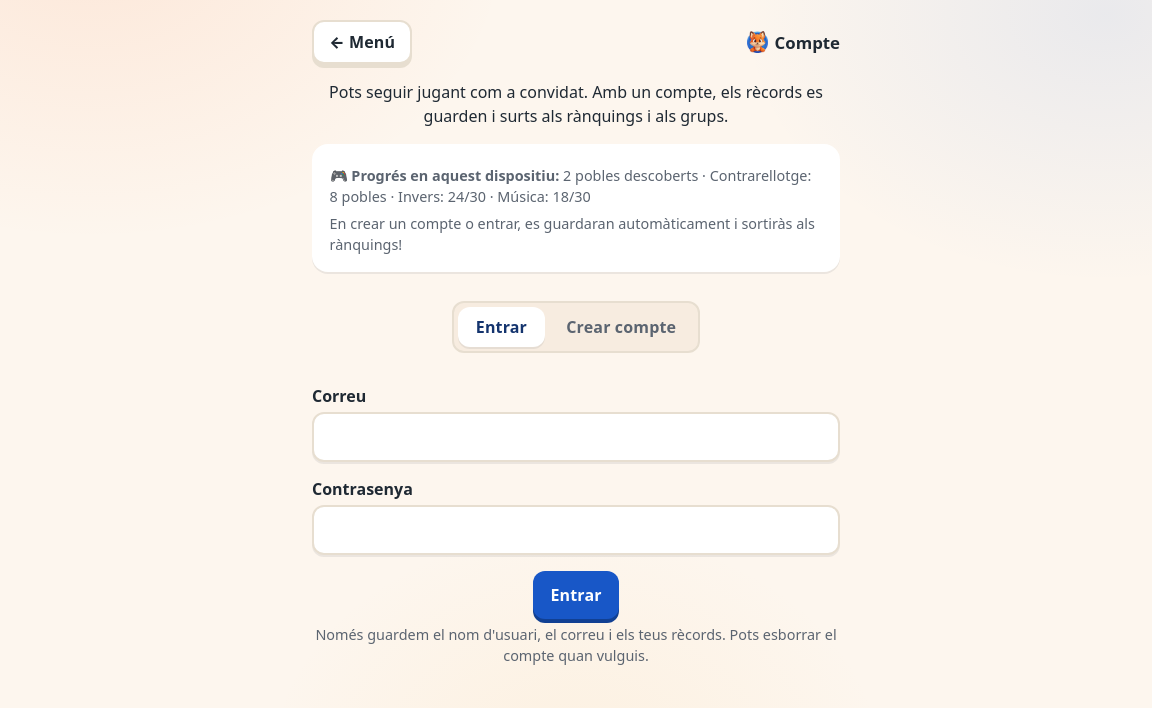
AccountScreen component › com a convidat (sense sessió) › mostra error si l'API està deshabilitada
Click the button "Entrar" at (576, 595), box [533,571,619,619]
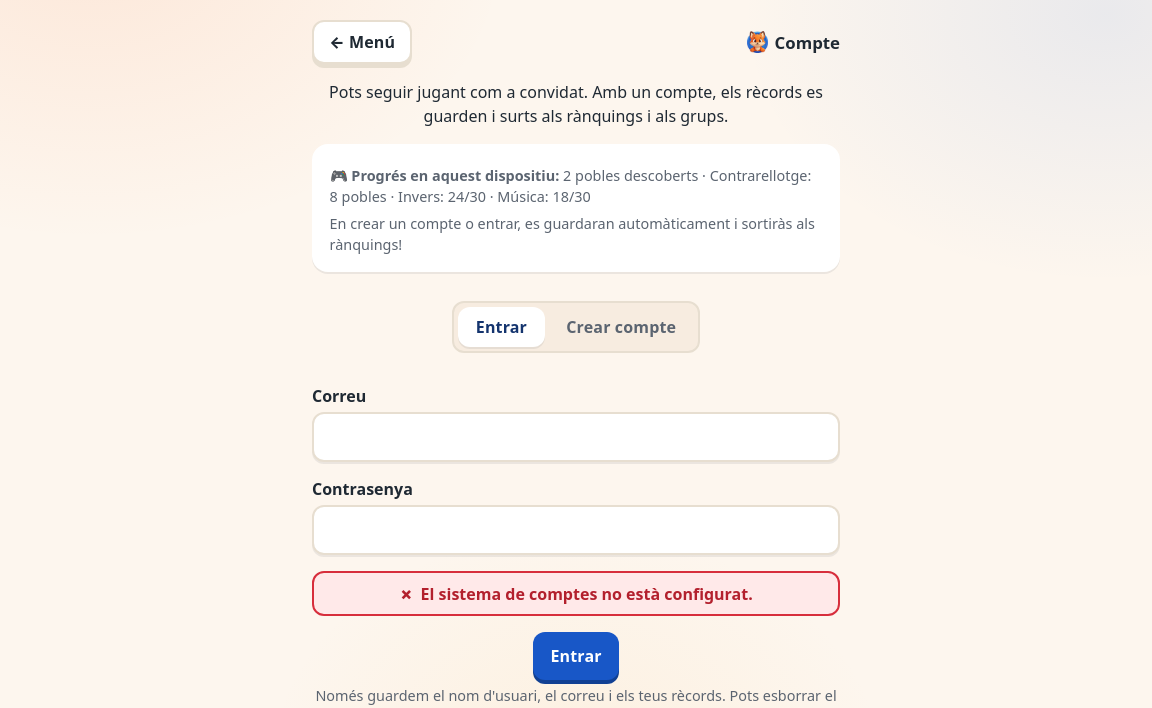
Check: the message shows "El sistema de comptes no està configurat", box [421,583,753,605]
